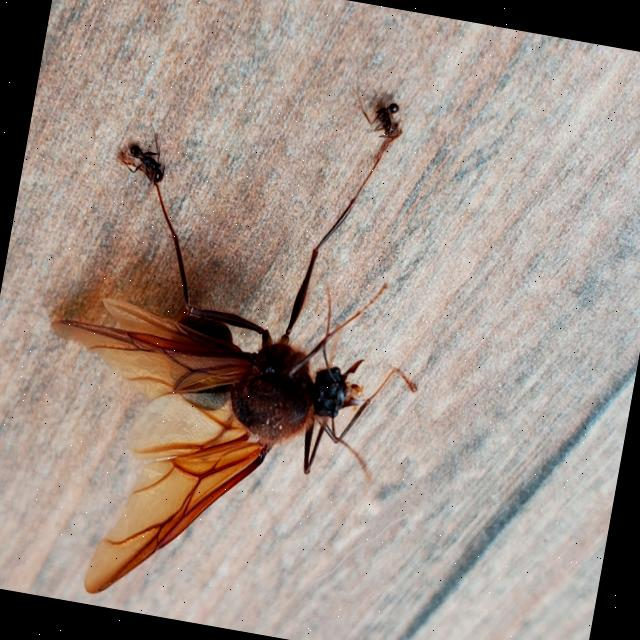Alive-Male-Alate: (0, 49, 465, 640)
